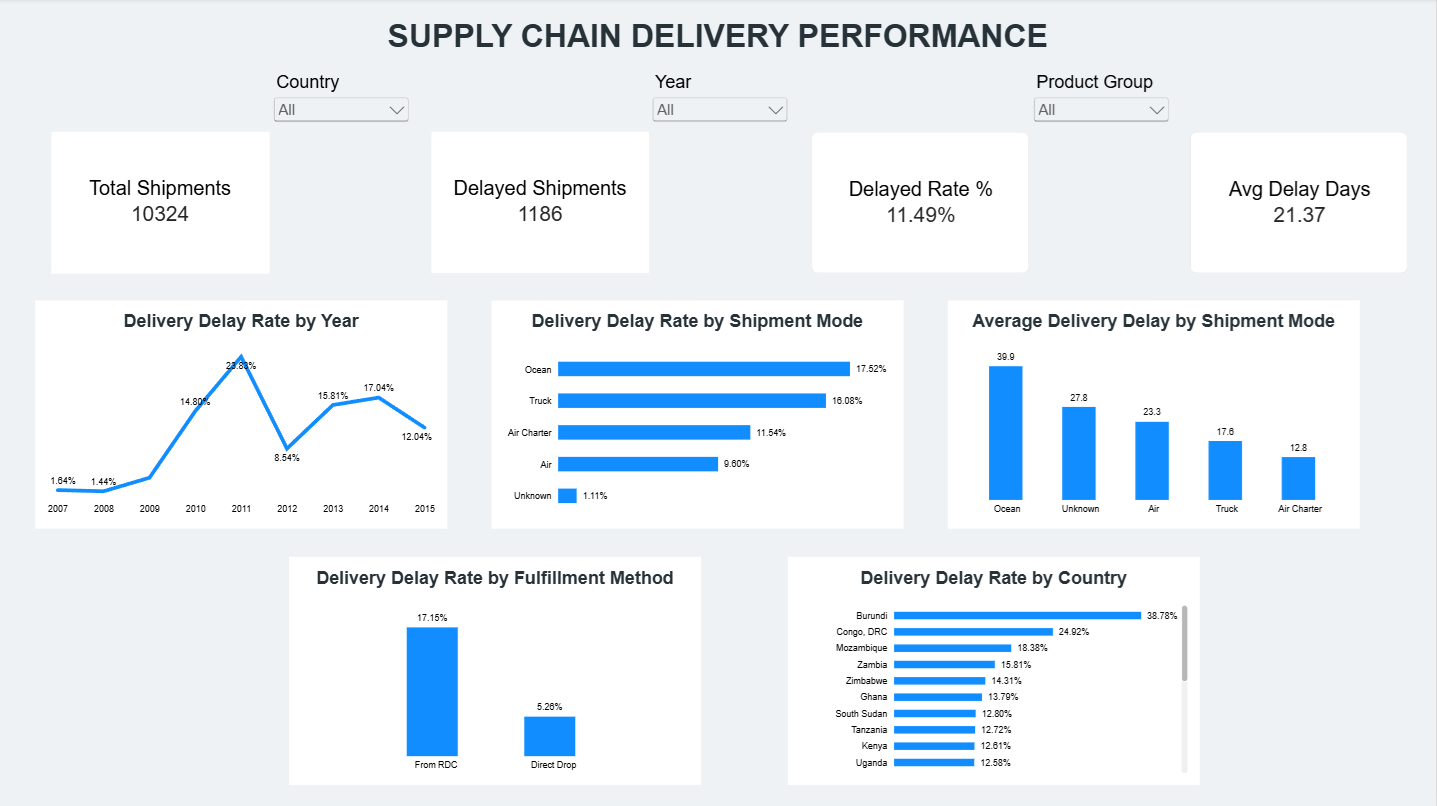

What the dashboard file says about the page in this screenshot:
{"tool":"powerbi","page":{"name":"Page 1","canvas":[1920,1080],"ordinal":0},"visuals":[{"type":"textbox","box":[437.4,27.4,1045.1,52.7],"z":0},{"type":"cardVisual","fields":{"Data":["CountNonNull(SCMS_Delivery_History_Cleaned.ID)"]},"box":[70.9,178.7,291,189.5],"z":1000},{"type":"cardVisual","fields":{"Data":["SCMS_Delivery_History_Cleaned.Delayed Shipments"]},"box":[578.4,178.7,290,189],"z":2000},{"type":"cardVisual","fields":{"Data":["Measures .Delayed Rate %"]},"box":[1085,178.7,290,189],"z":3000},{"type":"cardVisual","fields":{"Data":["Measures .Avg Delay Days"]},"box":[1591.5,178.7,290,189],"z":4000},{"type":"lineChart","title":"Delivery Delay Rate by Year","fields":{"Category":["SCMS_Delivery_History_Cleaned.Delivered to Client Date.Variation.Date Hierarchy.Year"],"Y":["Measures .Delayed Rate Display"]},"box":[48.9,403.6,550,305],"z":5000},{"type":"clusteredBarChart","title":"Delivery Delay Rate by Country","fields":{"Category":["SCMS_Delivery_History_Cleaned.Country"],"Y":["Measures .Delayed Rate %"]},"box":[1053.9,746.6,550,305.1],"z":6000},{"type":"clusteredBarChart","title":"Delivery Delay Rate by Shipment Mode","fields":{"Y":["Measures .Delayed Rate %"],"Category":["SCMS_Delivery_History_Cleaned.Shipment Mode"]},"box":[657.8,403.6,550,305],"z":7000},{"type":"clusteredColumnChart","title":"Average Delivery Delay by Shipment Mode","fields":{"Category":["SCMS_Delivery_History_Cleaned.Shipment Mode"],"Y":["Measures .Avg Delay Days"]},"box":[1266.8,403.6,550,305],"z":8000},{"type":"clusteredColumnChart","title":"Delivery Delay Rate by Fulfillment Method","fields":{"Category":["SCMS_Delivery_History_Cleaned.Fulfill Via"],"Y":["Measures .Delayed Rate %"]},"box":[387.3,746.6,550,305],"z":9000},{"type":"slicer","fields":{"Values":["SCMS_Delivery_History_Cleaned.Country"]},"box":[362.7,98.5,190,82.2],"z":10000},{"type":"slicer","fields":{"Values":["SCMS_Delivery_History_Cleaned.Delivered to Client Date.Variation.Date Hierarchy.Year"]},"box":[868.7,98.5,190,82],"z":11000},{"type":"slicer","fields":{"Values":["SCMS_Delivery_History_Cleaned.Product Group"]},"box":[1376.9,98.5,190,82],"z":12000}]}

Visuals, with their boxes in screenshot pixels (x1, y1, x2, y2), scaled from the page's 1920x1080 canvas onto the 1437x806 screenshot:
textbox: pyautogui.locateOnScreen(327, 20, 1110, 60)
cardVisual - CountNonNull(SCMS_Delivery_History_Cleaned.ID): pyautogui.locateOnScreen(53, 133, 271, 275)
cardVisual - SCMS_Delivery_History_Cleaned.Delayed Shipments: pyautogui.locateOnScreen(433, 133, 650, 274)
cardVisual - Measures .Delayed Rate %: pyautogui.locateOnScreen(812, 133, 1029, 274)
cardVisual - Measures .Avg Delay Days: pyautogui.locateOnScreen(1191, 133, 1408, 274)
"Delivery Delay Rate by Year" lineChart: pyautogui.locateOnScreen(37, 301, 448, 529)
"Delivery Delay Rate by Country" clusteredBarChart: pyautogui.locateOnScreen(789, 557, 1200, 785)
"Delivery Delay Rate by Shipment Mode" clusteredBarChart: pyautogui.locateOnScreen(492, 301, 904, 529)
"Average Delivery Delay by Shipment Mode" clusteredColumnChart: pyautogui.locateOnScreen(948, 301, 1360, 529)
"Delivery Delay Rate by Fulfillment Method" clusteredColumnChart: pyautogui.locateOnScreen(290, 557, 702, 785)
slicer - SCMS_Delivery_History_Cleaned.Country: pyautogui.locateOnScreen(271, 74, 414, 135)
slicer - SCMS_Delivery_History_Cleaned.Delivered to Client Date.Variation.Date Hierarchy.Year: pyautogui.locateOnScreen(650, 74, 792, 135)
slicer - SCMS_Delivery_History_Cleaned.Product Group: pyautogui.locateOnScreen(1031, 74, 1173, 135)
